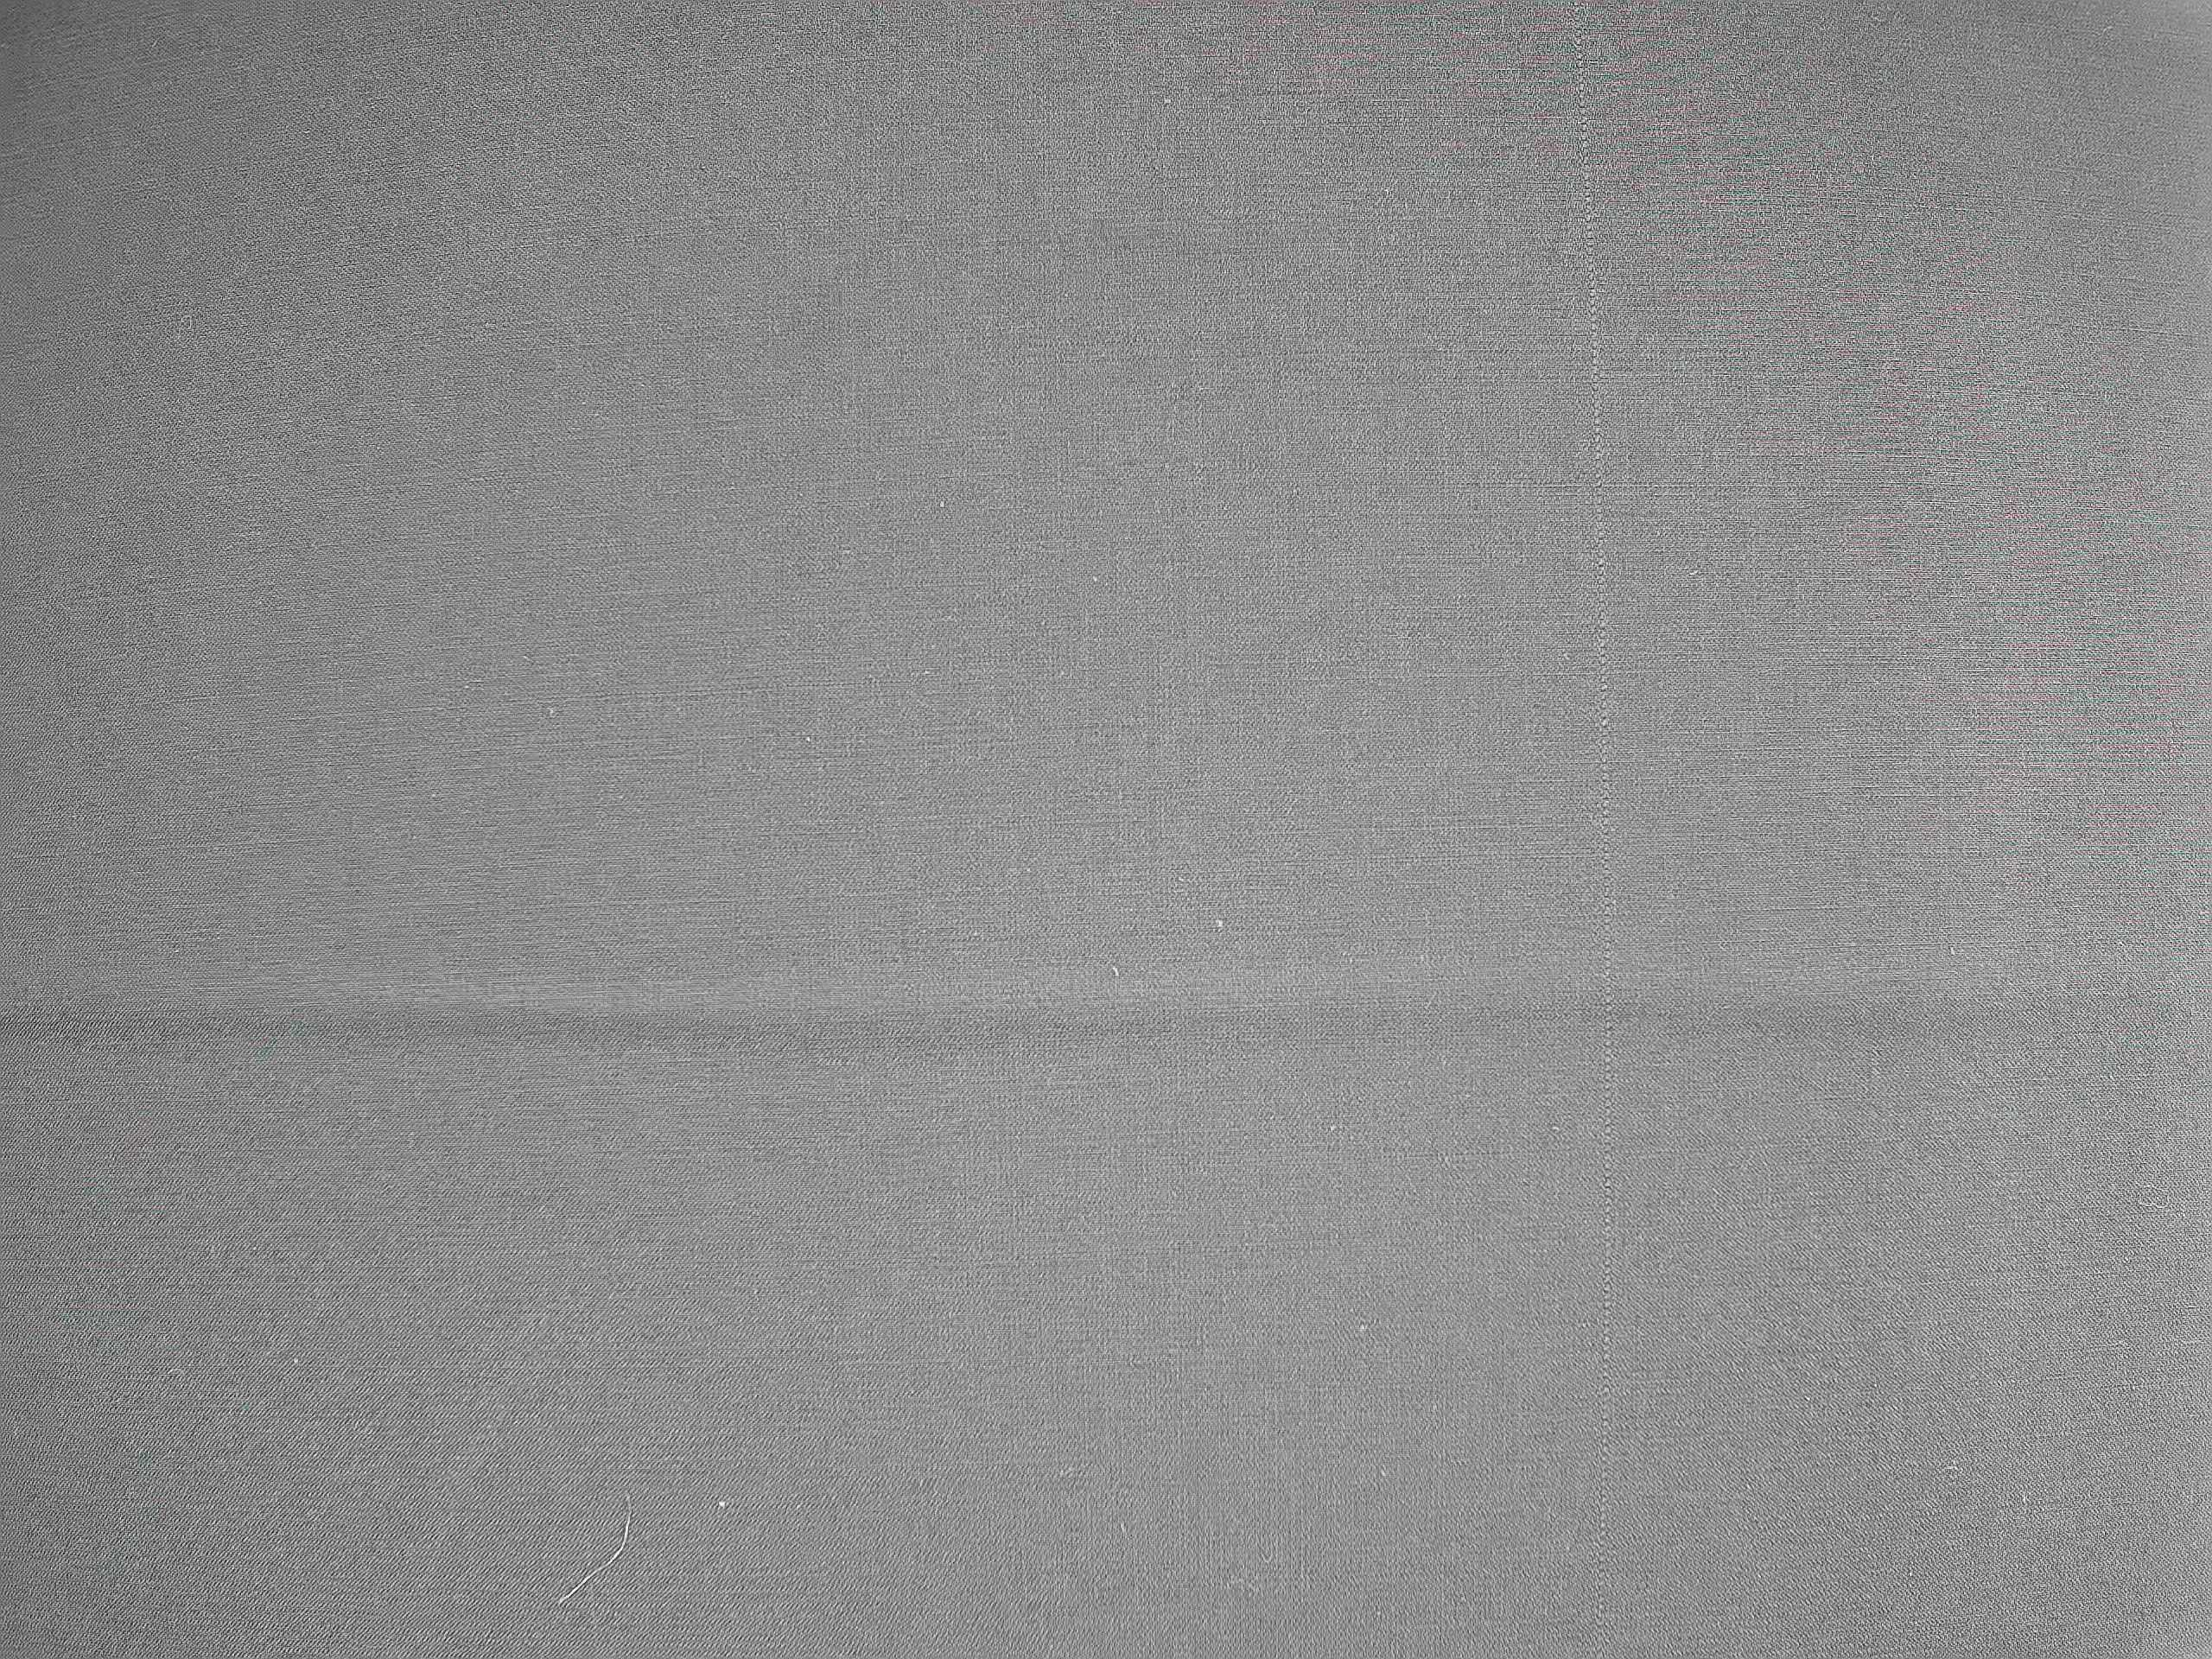lacking-warp: (1557, 10, 1629, 1295)
